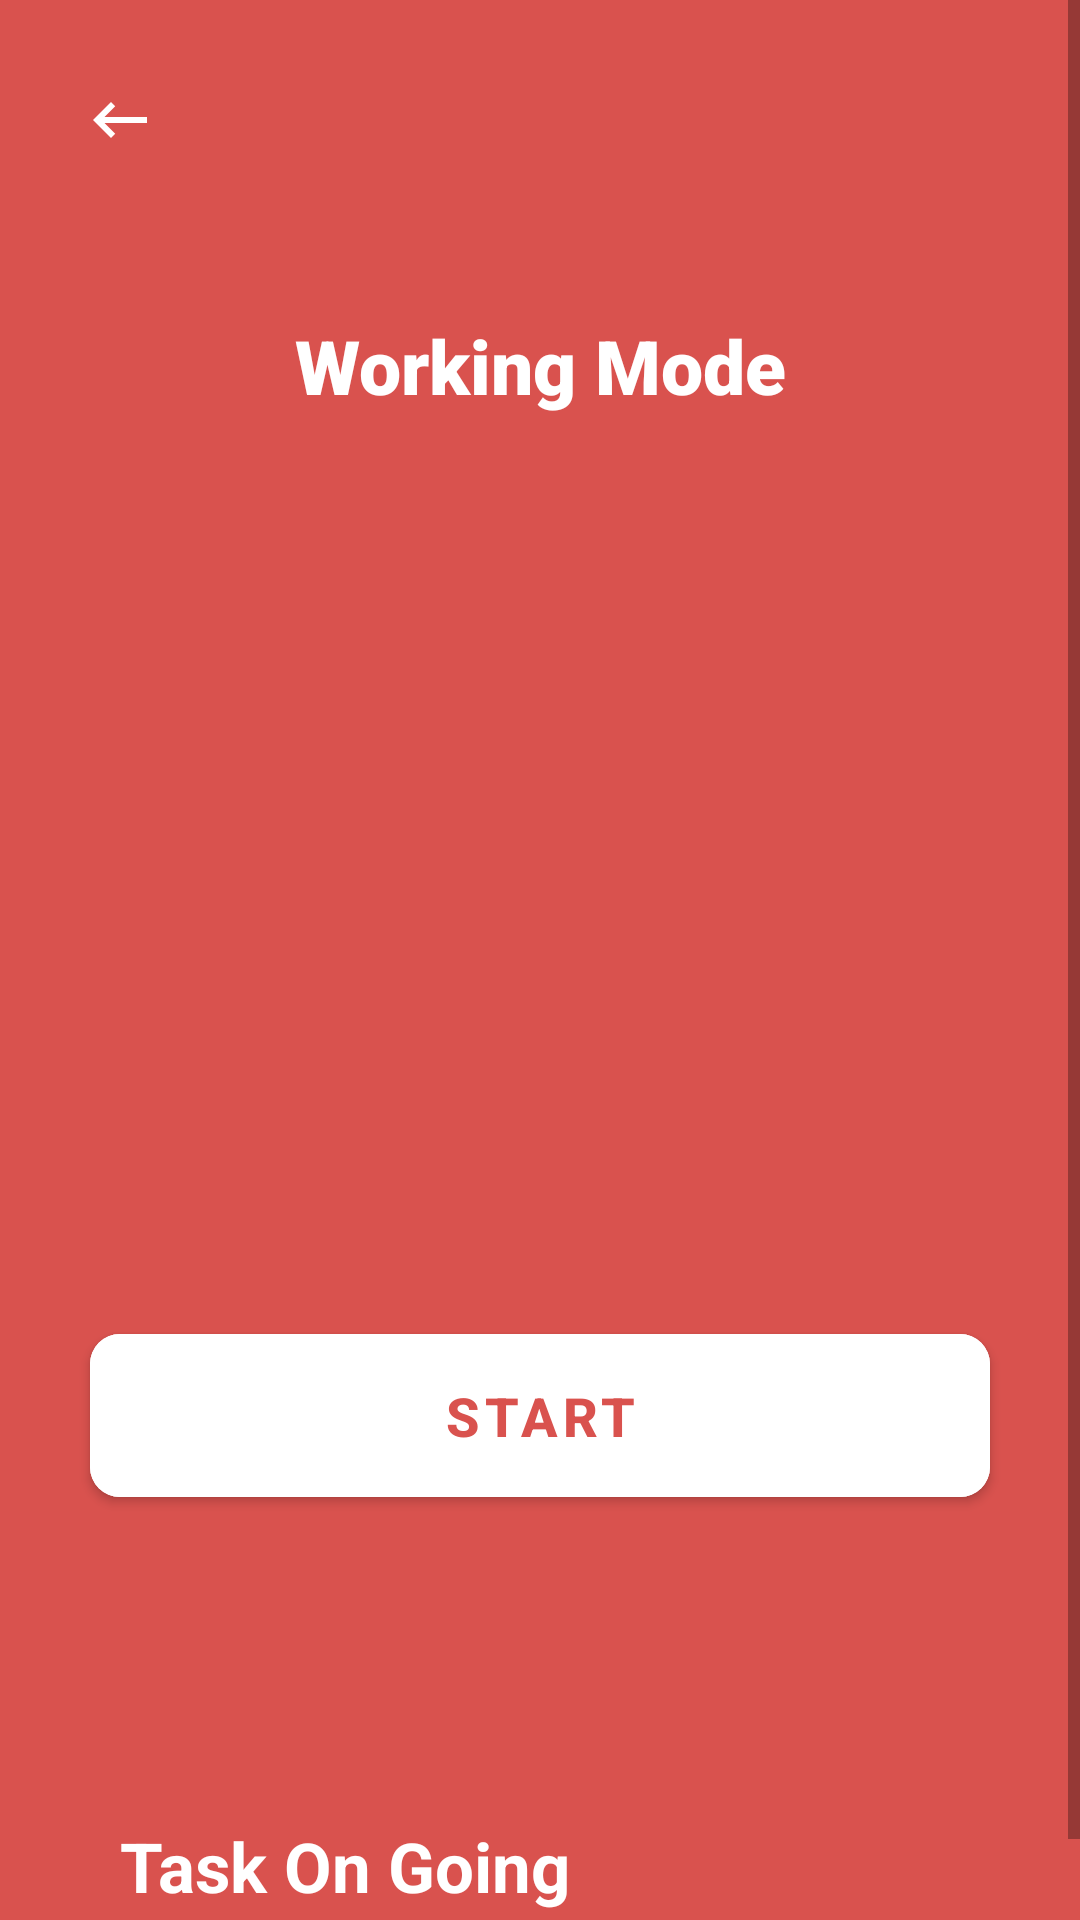

Screen size 1080 × 1920. Icon name, then its box in pixels as (x1, y1, x2, y2):
keyboard back: (93, 102, 147, 138)
